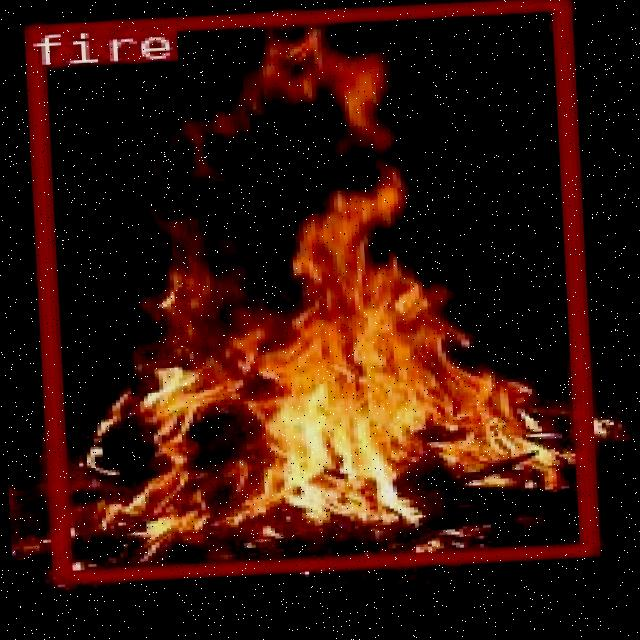fire: (21, 0, 595, 581)
